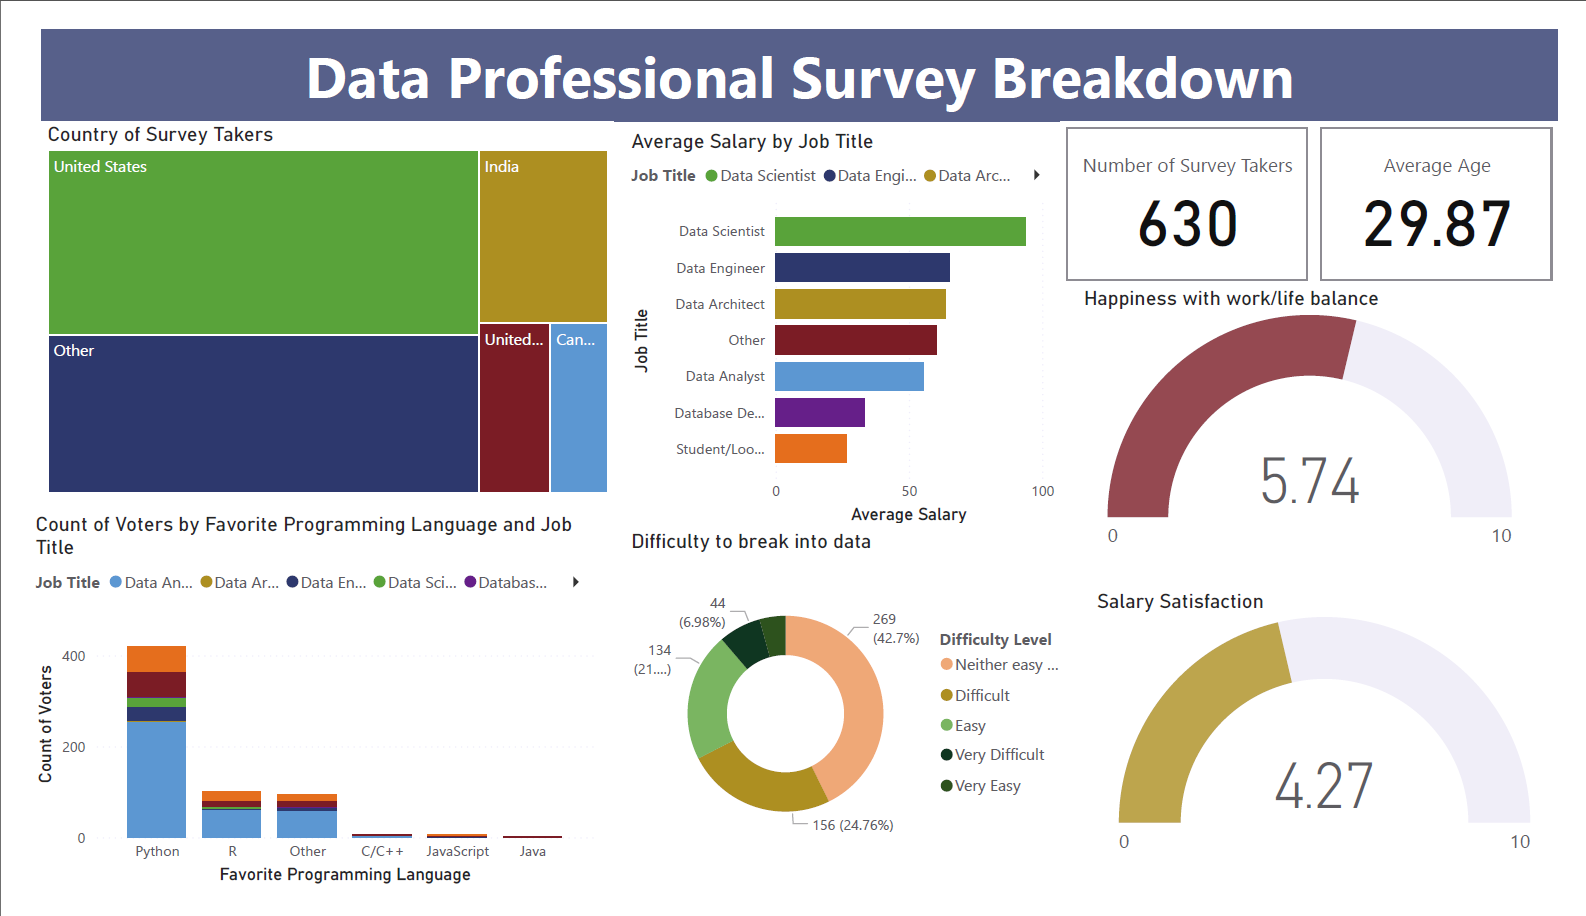

Layout of this report page (visuals, bound fields, positions):
{"tool":"powerbi","page":{"name":"Page 1","canvas":[1280,720],"ordinal":0},"visuals":[{"type":"textbox","box":[9.8,0,1270.5,77],"z":0},{"type":"cardVisual","fields":{"Data":["Count(Data Professional Survey.Unique ID)"]},"box":[863.3,77,212.8,138.2],"z":1000},{"type":"cardVisual","fields":{"Data":["Avg(Data Professional Survey.Q10 - Current Age)"]},"box":[1076.1,77,204.2,138.2],"z":2000},{"type":"barChart","title":"Average Salary by Job Title","fields":{"Category":["Data Professional Survey.Q1 - Which Title Best Fits your Current Role?.1"],"Y":["Avg(Data Professional Survey.Average Salary)"],"Series":["Data Professional Survey.Q1 - Which Title Best Fits your Current Role?.1"]},"box":[498.9,83.2,364.4,335.1],"z":3000},{"type":"columnChart","fields":{"Category":["Data Professional Survey.Q5 - Favorite Programming Language.1"],"Y":["CountNonNull(Data Professional Survey.Unique ID)"],"Series":["Data Professional Survey.Q1 - Which Title Best Fits your Current Role?.1"]},"box":[0,403.5,476.9,316.7],"z":4000},{"type":"treemap","title":"Country of Survey Takers","fields":{"Group":["Data Professional Survey.Q11 - Which Country do you live in?.1"],"Values":["CountNonNull(Data Professional Survey.Q11 - Which Country do you live in?.1)"]},"box":[9.8,77,479.4,315.5],"z":5000},{"type":"gauge","title":"Happiness with work/life balance","fields":{"Y":["Avg(Data Professional Survey.Q6 - How Happy are you in your Current Position with the following? (Work/Life Balance))"],"MinValue":["Min(Data Professional Survey.Q6 - How Happy are you in your Current Position with the following? (Work/Life Balance))"],"MaxValue":["Max(Data Professional Survey.Q6 - How Happy are you in your Current Position with the following? (Work/Life Balance))1"]},"box":[878,215.2,387.6,229.9],"z":6000},{"type":"gauge","title":"Salary Satisfaction","fields":{"Y":["Avg(Data Professional Survey.Q6 - How Happy are you in your Current Position with the following? (Salary))"],"MinValue":["Min(Data Professional Survey.Q6 - How Happy are you in your Current Position with the following? (Salary))"],"MaxValue":["Max(Data Professional Survey.Q6 - How Happy are you in your Current Position with the following? (Salary))"]},"box":[889,468.3,391.3,232.3],"z":7000},{"type":"donutChart","title":"Difficulty to break into data","fields":{"Y":["CountNonNull(Data Professional Survey.Q7 - How difficult was it for you to break into Data?)"],"Category":["Data Professional Survey.Q7 - How difficult was it for you to break into Data?"]},"box":[498.9,418.2,379.1,291],"z":8000}]}

Visuals, with their boxes in screenshot pixels (x1, y1, x2, y2), scaled from the page's 1280x720 canvas onto the 1586x916 screenshot:
textbox: {"left": 12, "top": 0, "right": 1585, "bottom": 98}
cardVisual - Count(Data Professional Survey.Unique ID): {"left": 1070, "top": 98, "right": 1333, "bottom": 274}
cardVisual - Avg(Data Professional Survey.Q10 - Current Age): {"left": 1333, "top": 98, "right": 1585, "bottom": 274}
"Average Salary by Job Title" barChart: {"left": 618, "top": 106, "right": 1070, "bottom": 532}
columnChart - Data Professional Survey.Q5 - Favorite Programming Language.1 x CountNonNull(Data Professional Survey.Unique ID): {"left": 0, "top": 513, "right": 591, "bottom": 915}
"Country of Survey Takers" treemap: {"left": 12, "top": 98, "right": 606, "bottom": 499}
"Happiness with work/life balance" gauge: {"left": 1088, "top": 274, "right": 1568, "bottom": 566}
"Salary Satisfaction" gauge: {"left": 1102, "top": 596, "right": 1585, "bottom": 891}
"Difficulty to break into data" donutChart: {"left": 618, "top": 532, "right": 1088, "bottom": 902}
